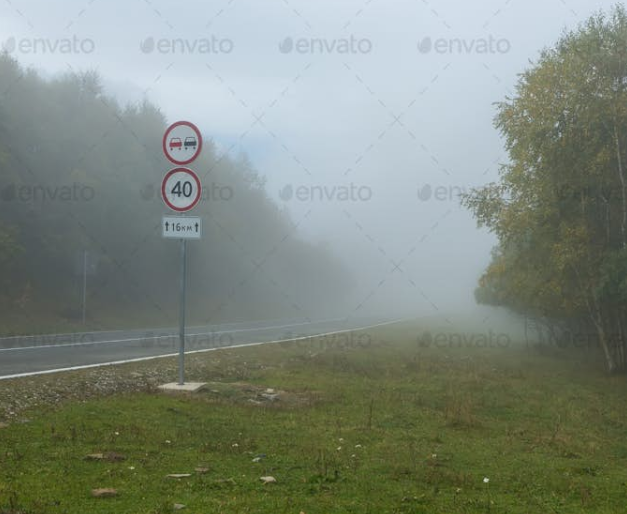No overtake: (156, 113, 207, 166)
Speed limit: (158, 168, 200, 210)
